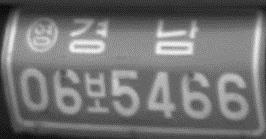0: (19, 66, 50, 113)
4: (144, 70, 175, 120)
5: (109, 68, 141, 118)
6: (215, 69, 249, 121), (179, 69, 212, 118), (51, 66, 83, 116)
경남_D: (67, 16, 201, 57)
보: (82, 68, 111, 114)
영: (27, 16, 60, 52)
